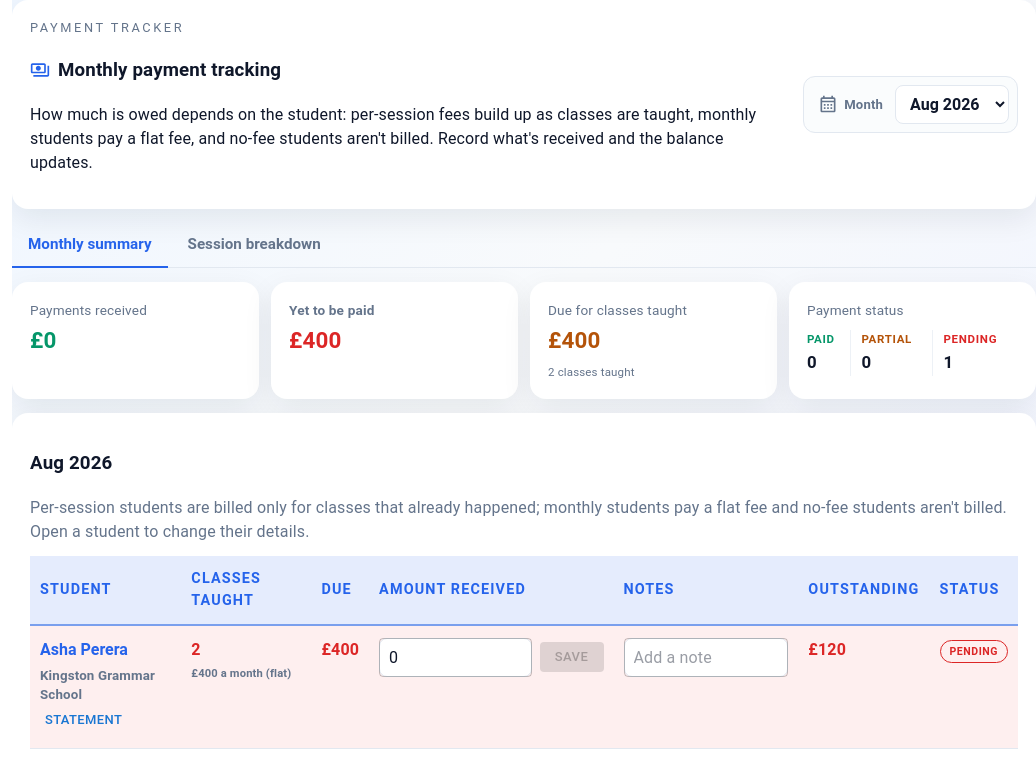
Scenario: PaymentTrackerView session breakdown › lists a monthly student's attended dates with the fee on one line
Click the tab "Session breakdown": (254, 245) 172,223 -> 337,268
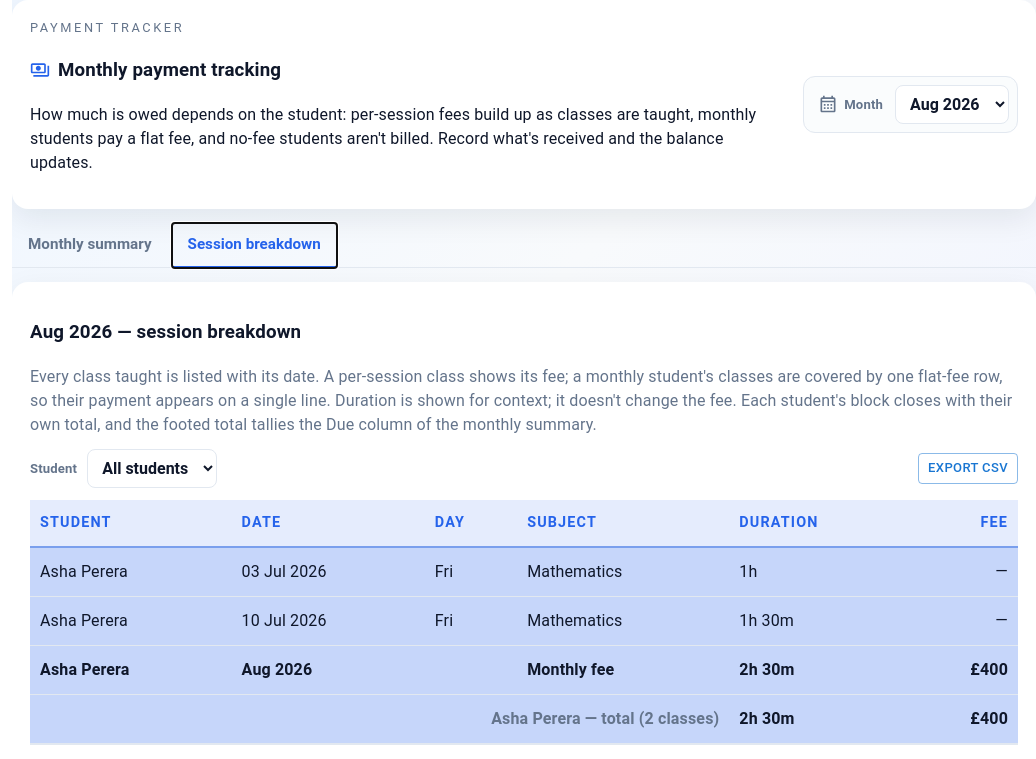
Expected: the text "Mathematics" in the row of "03 Jul 2026" is shown, 527,562 -> 623,581
Expected: the text "—" in the row of "03 Jul 2026" is shown, 995,562 -> 1008,581
Expected: the text "10 Jul 2026" is shown, 232,596 -> 425,645
